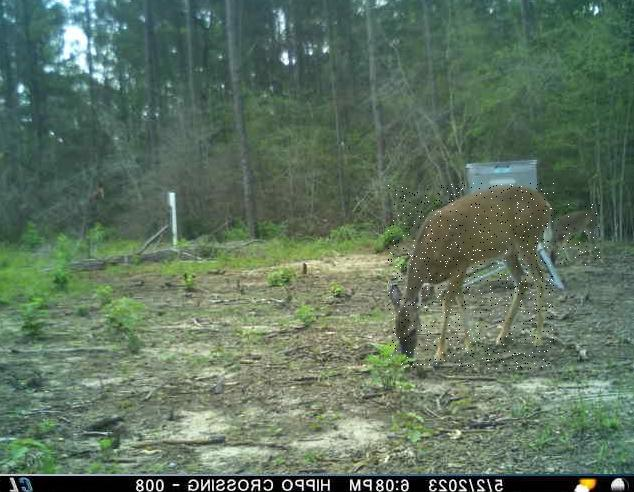Deer: (388, 184, 554, 370), (547, 204, 599, 265)
